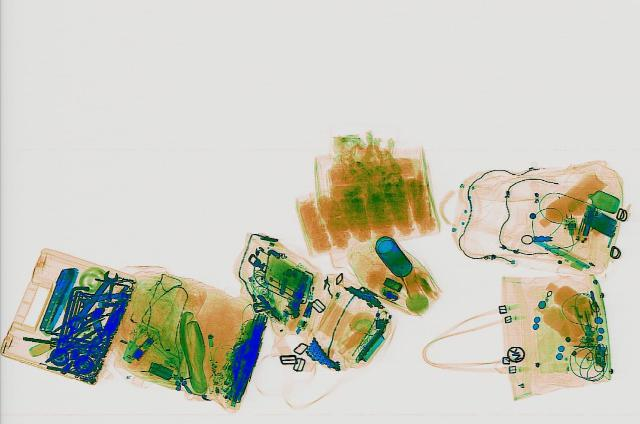Wrench: (62, 268, 122, 329)
